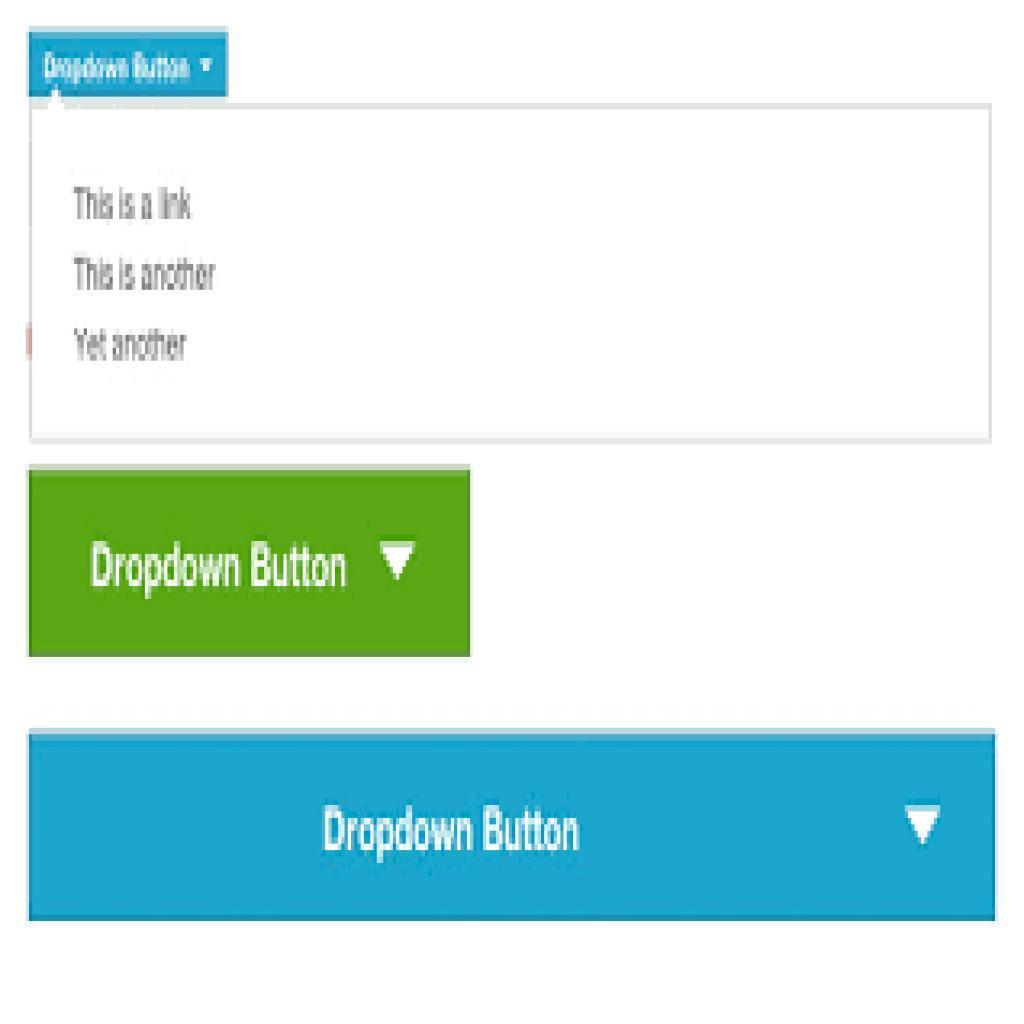dropdown: (31, 734, 998, 921), (29, 471, 469, 659), (30, 31, 228, 98)
